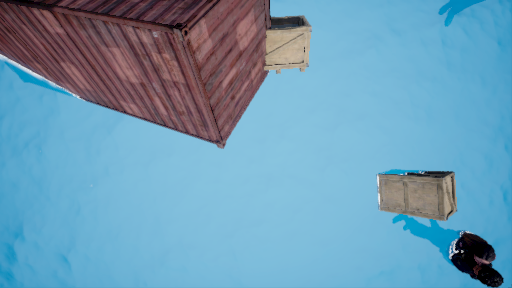person: (398, 211, 509, 285)
